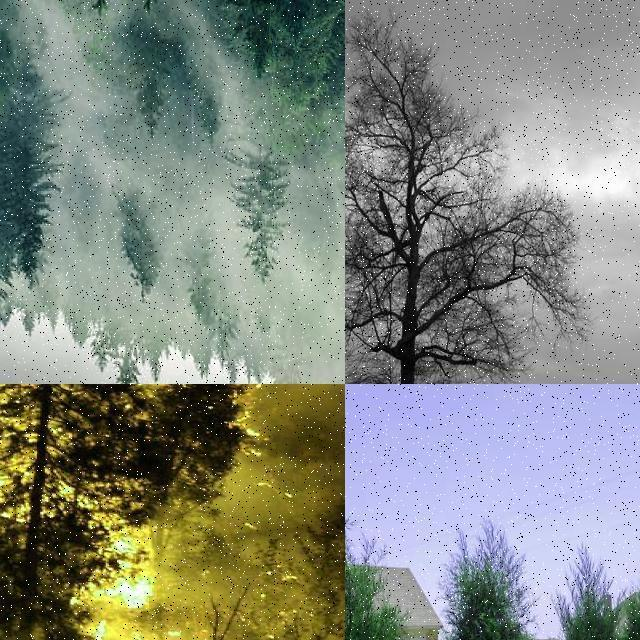tree: (346, 0, 594, 384), (344, 92, 456, 384), (0, 0, 60, 352), (0, 384, 144, 528), (123, 384, 253, 514), (0, 511, 119, 640), (428, 511, 547, 640), (115, 1, 188, 147), (536, 542, 640, 640), (224, 142, 288, 286), (144, 579, 274, 640), (114, 179, 166, 305), (23, 0, 119, 58), (256, 0, 324, 80), (145, 384, 245, 430), (574, 575, 640, 640), (114, 0, 182, 60), (232, 0, 278, 78), (202, 309, 242, 369), (114, 332, 140, 384)
